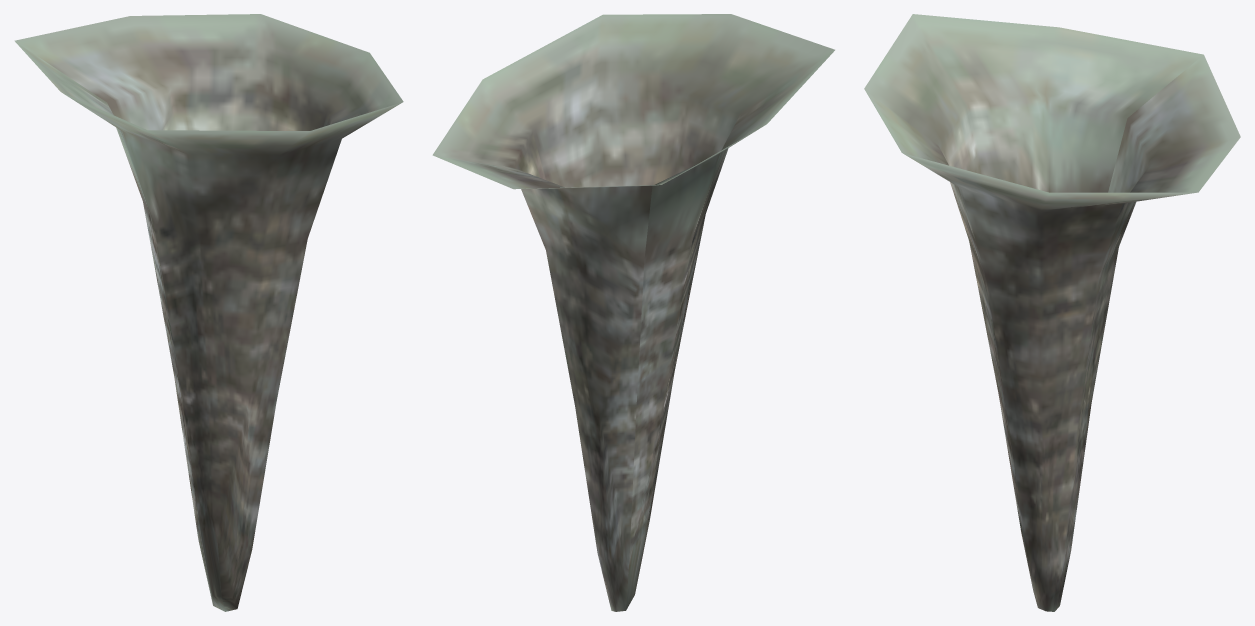
The model's file is TROLLHOLE02_PS-MAINSTALAG08.fbx.
3 views of the same model, side by side, from view 1: azimuth 30°, elevation 25°; view 2: azimuth 150°, elevation 25°; view 3: azimuth 270°, elevation 25° (orthographic). The views are drawn at different scales.
Parts seen in each view (by area): view 1: TROLLHOLE02_PS-MAINSTALAG08; view 2: TROLLHOLE02_PS-MAINSTALAG08; view 3: TROLLHOLE02_PS-MAINSTALAG08.
Part boxes in pixels (box(x1,y1,x2,y2)): TROLLHOLE02_PS-MAINSTALAG08: box(14, 14, 403, 611); TROLLHOLE02_PS-MAINSTALAG08: box(432, 14, 834, 611); TROLLHOLE02_PS-MAINSTALAG08: box(864, 14, 1240, 611).
Bounding box in the file's own units: 23992 × 43132 × 27938.
1 material, 1 textured.
